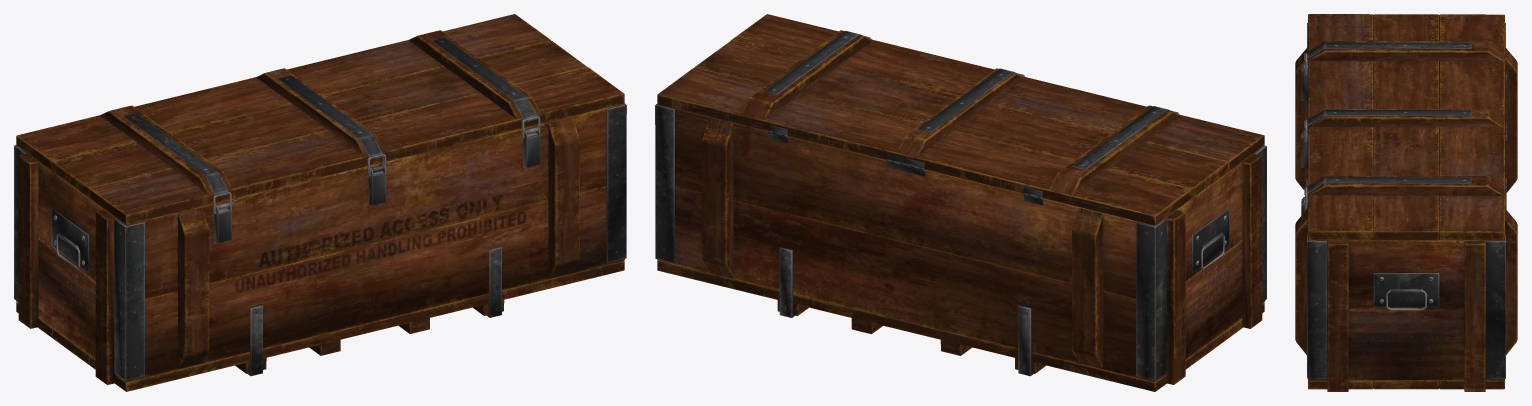
File: wooden_military_crate.glb
3 renders of one model, left to right at view 1: azimuth 30°, elevation 25°; view 2: azimuth 150°, elevation 25°; view 3: azimuth 270°, elevation 25°, orthographic. The views are drawn at different scales.
Parts seen in each view (by area): view 1: wooden_military_crate; view 2: wooden_military_crate; view 3: wooden_military_crate.
Part boxes in pixels (x1,y1,x2,y2): wooden_military_crate: (14,14,626,391); wooden_military_crate: (655,14,1266,391); wooden_military_crate: (1295,14,1517,391).
Size of the model in its own units: 1.24 by 0.4643 by 0.5198.
1 material, 1 textured.
